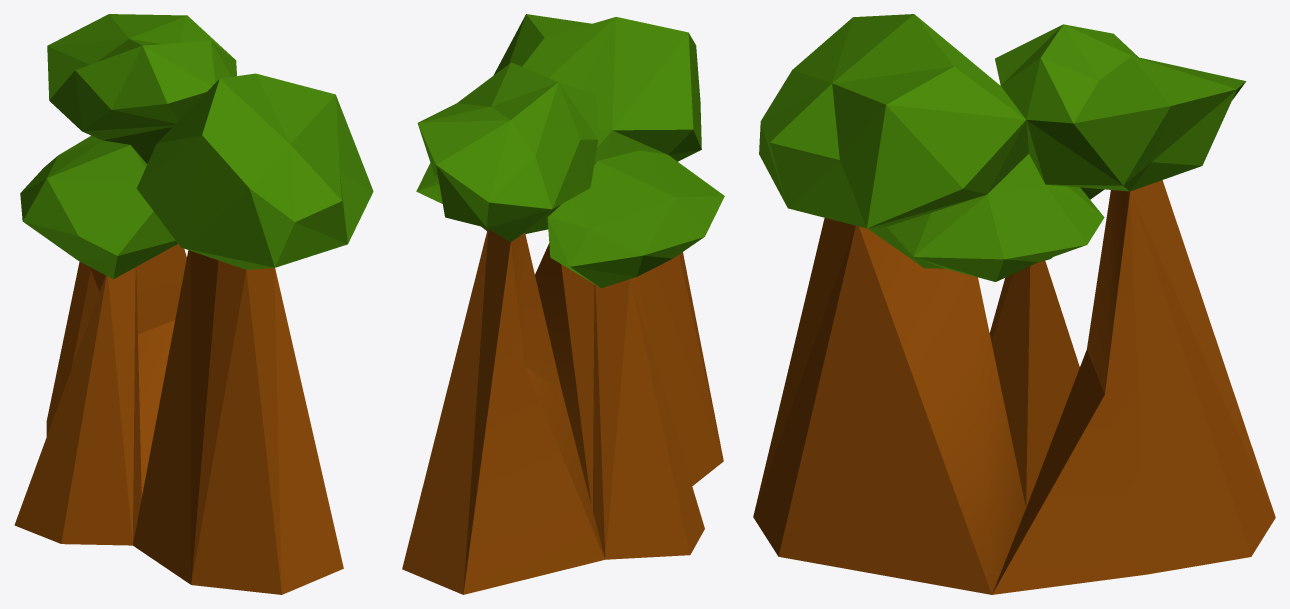
The model's file is arbol A.fbx.
3 views of the same model, side by side, from view 1: azimuth 30°, elevation 25°; view 2: azimuth 150°, elevation 25°; view 3: azimuth 270°, elevation 25° (orthographic). The views are drawn at different scales.
Parts seen in each view (by area): view 1: pCube7; view 2: pCube7; view 3: pCube7.
Boxes of the visible parts, x1,y1,x2,y2 form: pCube7: (14,14,373,594); pCube7: (402,14,724,594); pCube7: (753,14,1275,594).
Size of the model in its own units: 1925 by 2932 by 2729.
